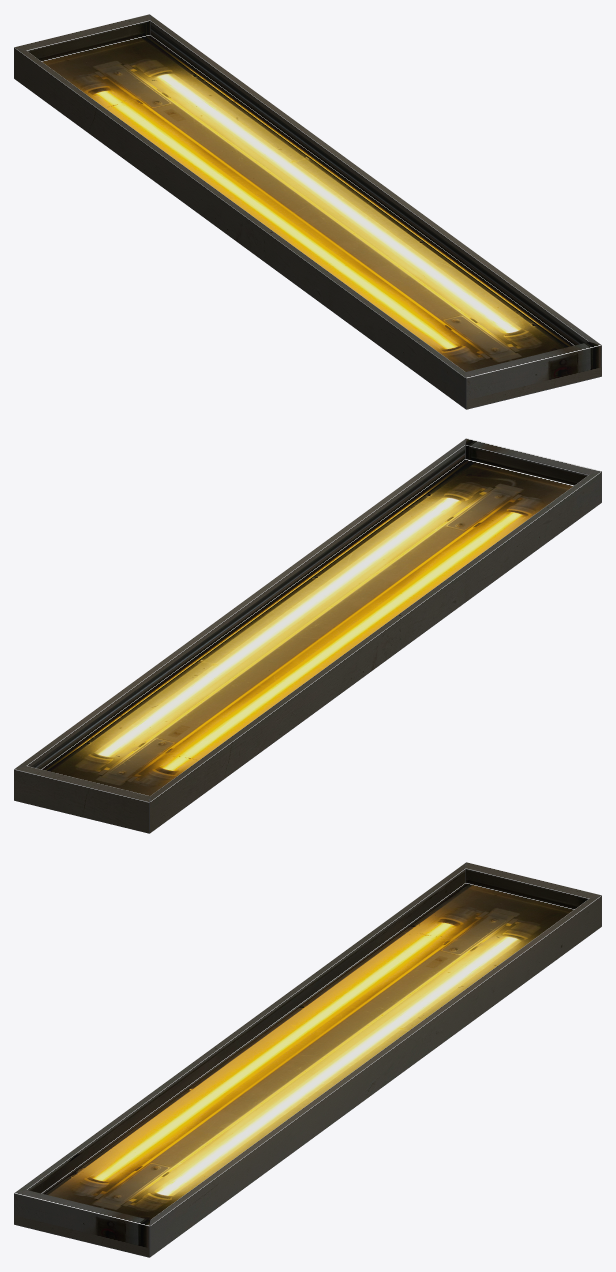
Rendered from Fluorescente.fbx.
The picture shows the model from 3 angles, top to bottom: view 1: azimuth 30°, elevation 25°; view 2: azimuth 150°, elevation 25°; view 3: azimuth 330°, elevation 25°; orthographic projection.
Parts seen in each view (by area): view 1: Box001; view 2: Box001; view 3: Box001.
Boxes of the visible parts, left/top/right/bottom form: Box001: left=14, top=14, right=601, bottom=409; Box001: left=14, top=438, right=601, bottom=833; Box001: left=14, top=862, right=601, bottom=1257.
Bounding box in the file's own units: 33.79 × 7.47 × 195.
Materials: 1 (1 with a texture image).
